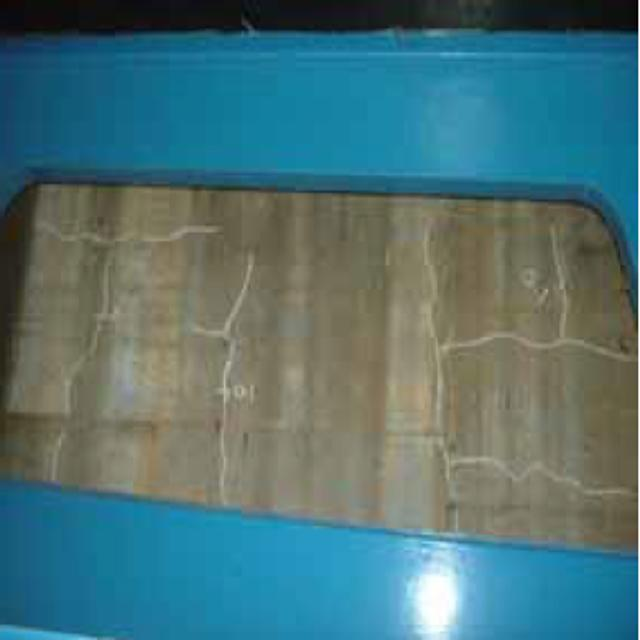crack: (408, 234, 640, 555), (34, 206, 256, 513)
